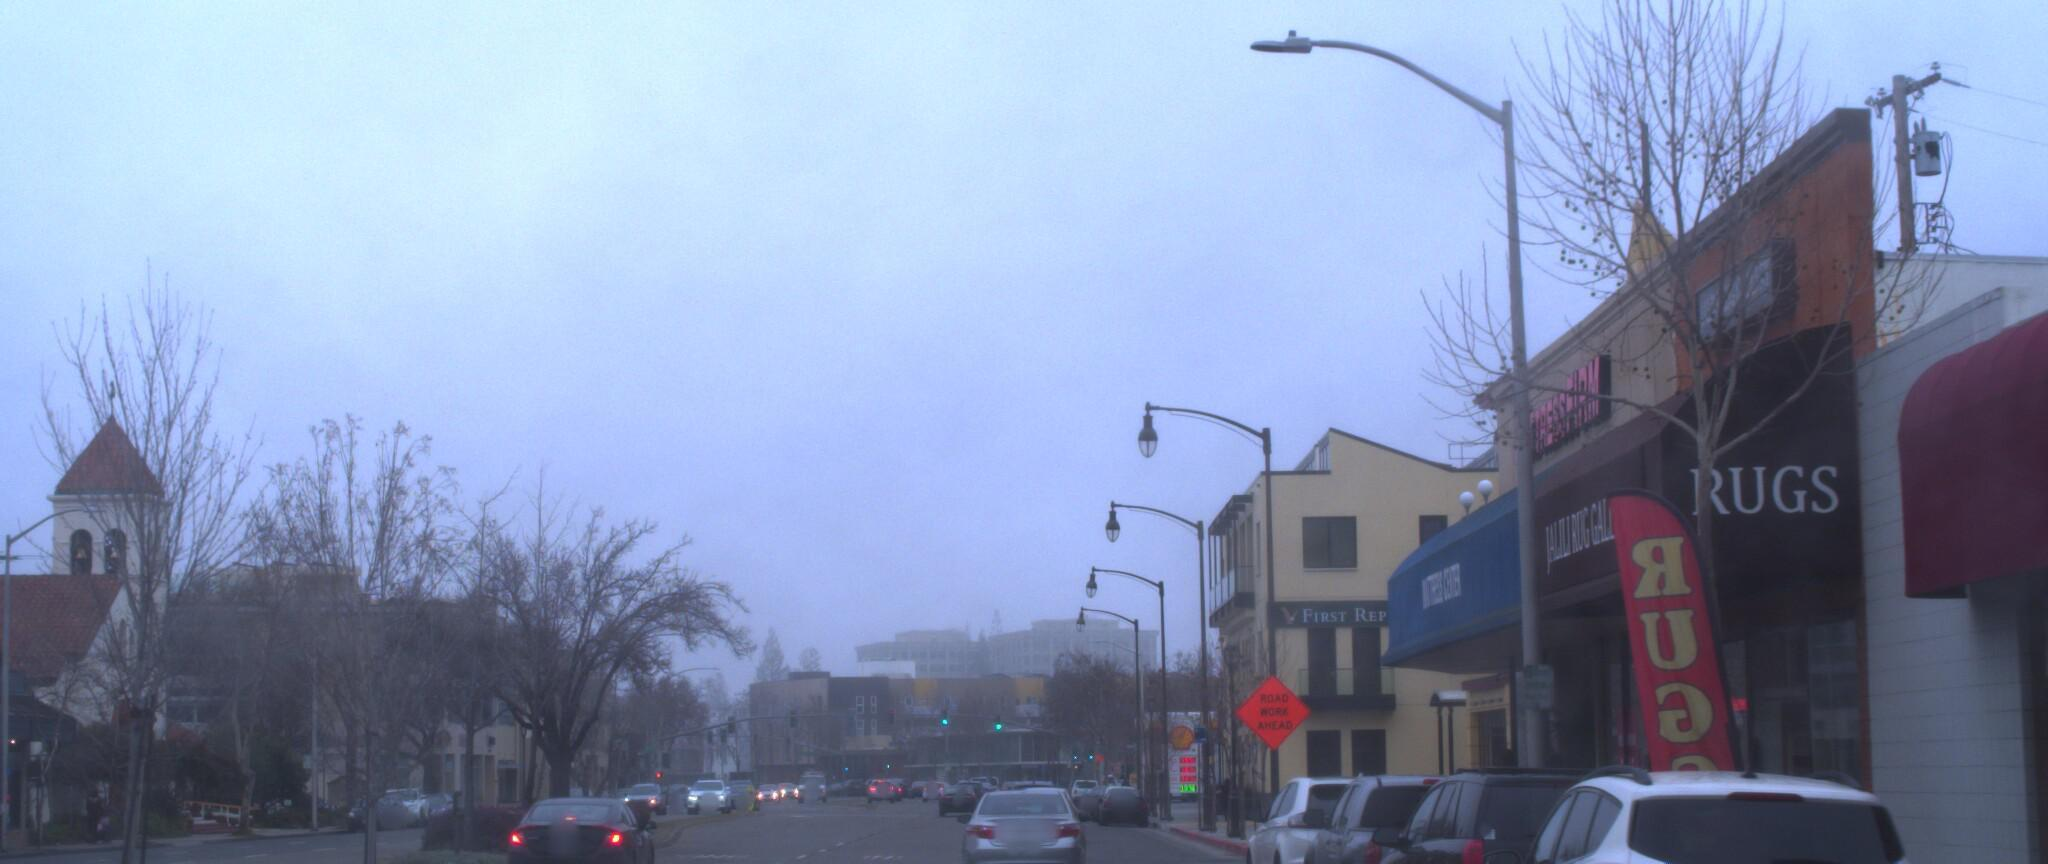car: (1462, 754, 2006, 864), (1347, 760, 1710, 864), (1293, 762, 1569, 864), (1232, 767, 1465, 864), (488, 784, 658, 864), (942, 767, 1081, 864)
